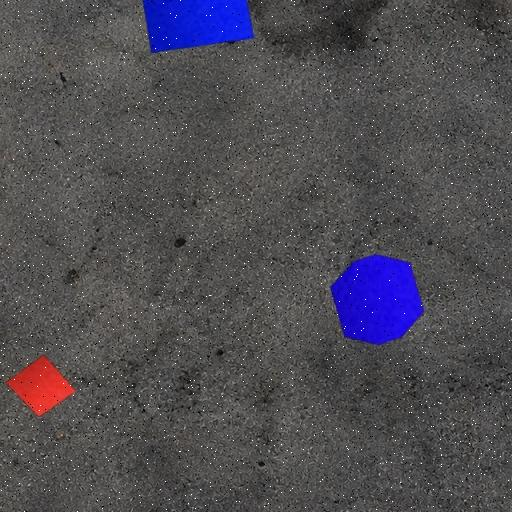BLUE_SQUARE: (134, 0, 256, 54)
RED_SQUARE: (5, 354, 76, 418)
